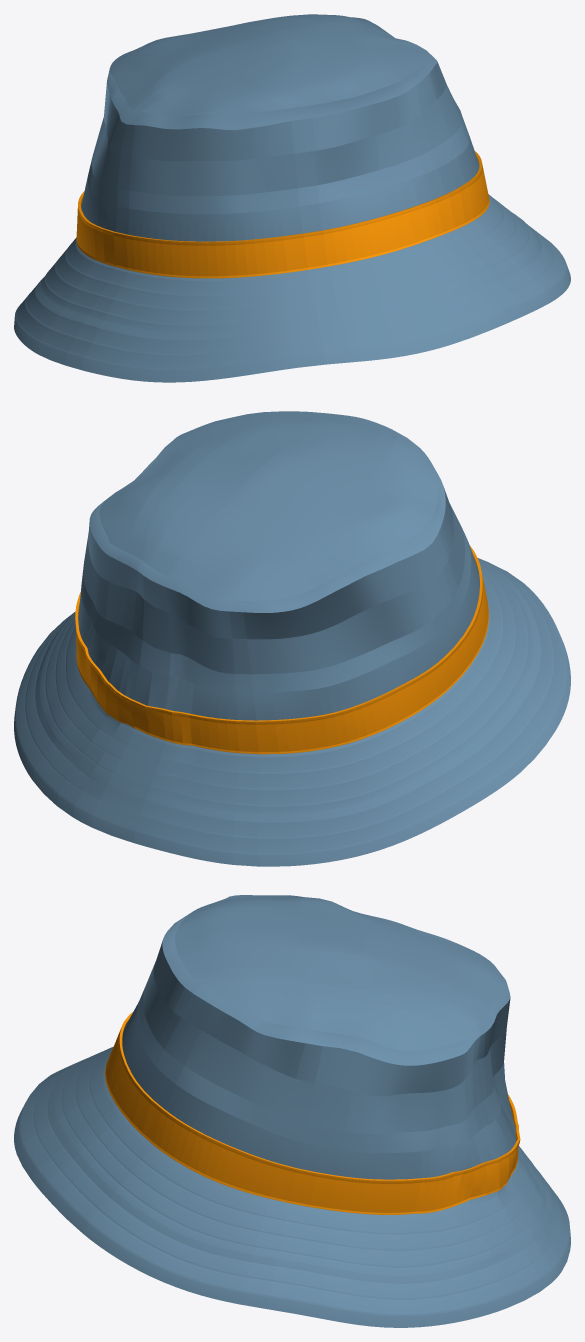
The model's file is Fisherman_Hat_Girl 1.fbx.
3 renders of one model, top to bottom at view 1: azimuth 30°, elevation 25°; view 2: azimuth 150°, elevation 25°; view 3: azimuth 270°, elevation 25°, orthographic.
Parts seen in each view (by area): view 1: fisherman_hat; view 2: fisherman_hat; view 3: fisherman_hat.
Boxes of the visible parts, box(x1,y1,x2,y2) form: fisherman_hat: box(14, 14, 570, 382); fisherman_hat: box(14, 411, 570, 866); fisherman_hat: box(14, 895, 570, 1327).
Size of the model in its own units: 81.08 by 47.95 by 79.35.
1 material, 1 textured.
